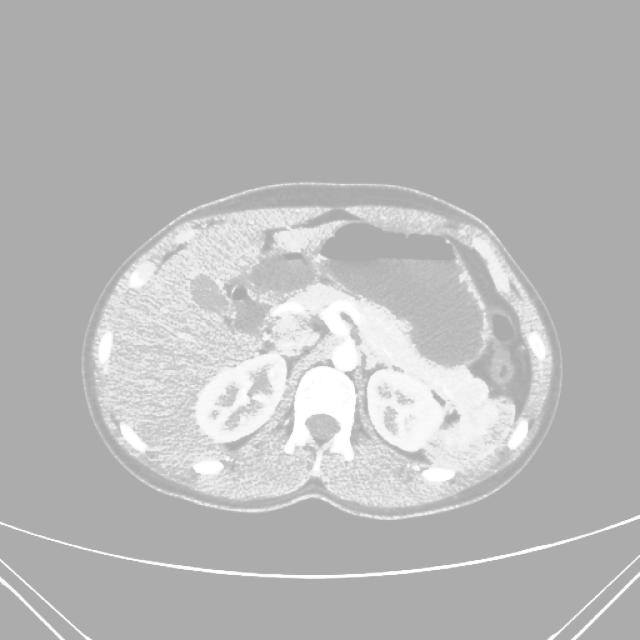NORMAL: (75, 155, 582, 561)
